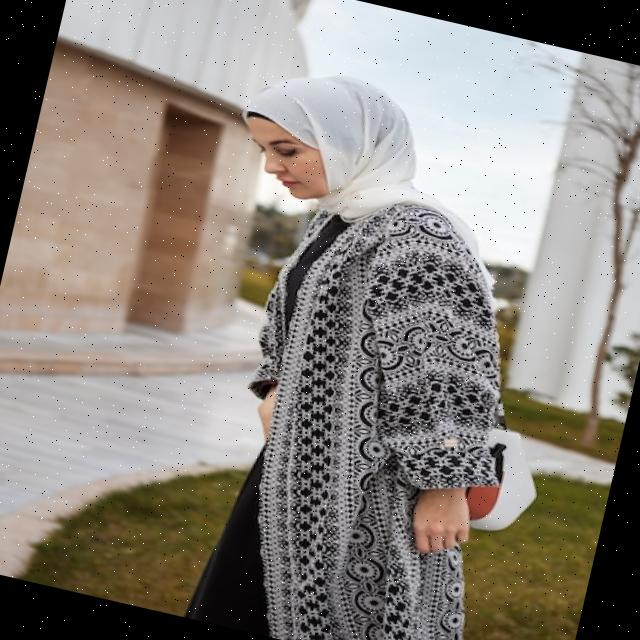Person: (128, 54, 617, 640)
